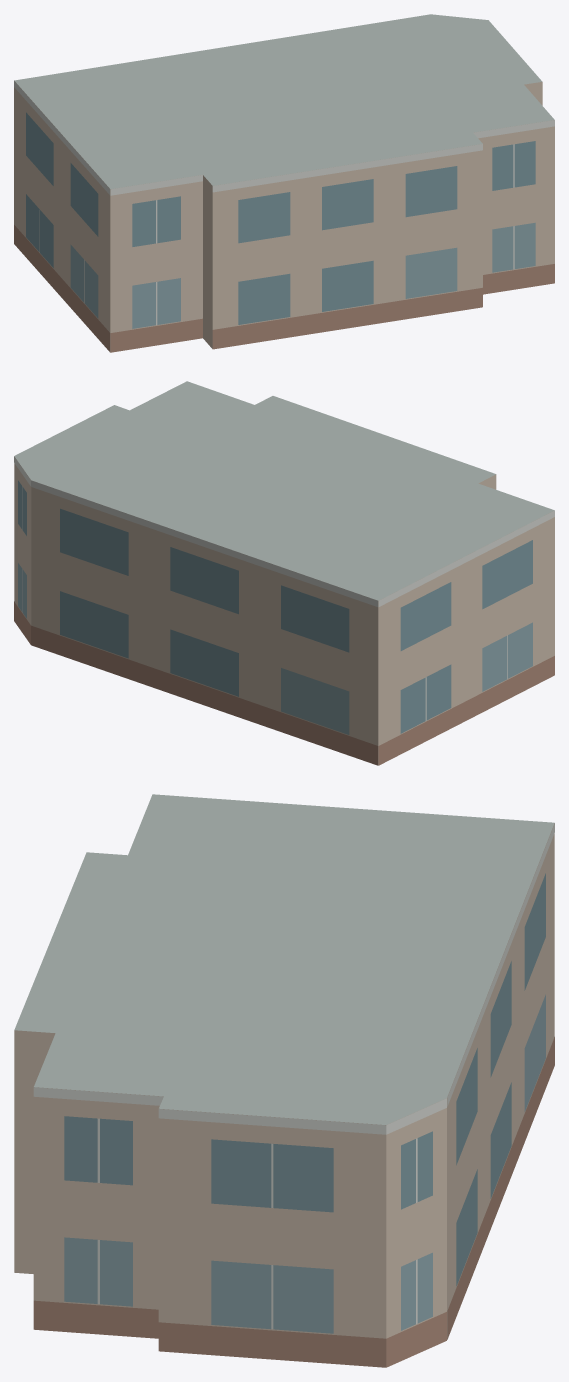
File: survey-upis-32911625.glb
The picture shows the model from 3 angles, top to bottom: view 1: azimuth 30°, elevation 25°; view 2: azimuth 150°, elevation 25°; view 3: azimuth 270°, elevation 25°; orthographic projection. The views are drawn at different scales.
Visible parts, largest first — view 1: survey-upis-32911625.tmp; view 2: survey-upis-32911625.tmp; view 3: survey-upis-32911625.tmp.
Boxes of the visible parts, <box> form: survey-upis-32911625.tmp: <box>14,14,554,352</box>; survey-upis-32911625.tmp: <box>14,381,554,765</box>; survey-upis-32911625.tmp: <box>14,794,554,1367</box>.
Bounding box in the file's own units: 17.86 × 6.1 × 12.33.
